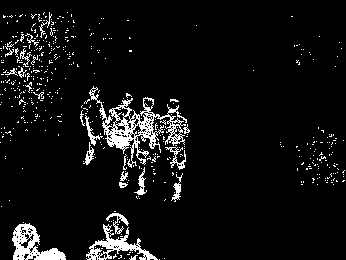person: (82, 210, 162, 260), (130, 97, 163, 200), (104, 91, 138, 190), (158, 98, 189, 205), (77, 85, 106, 167)
